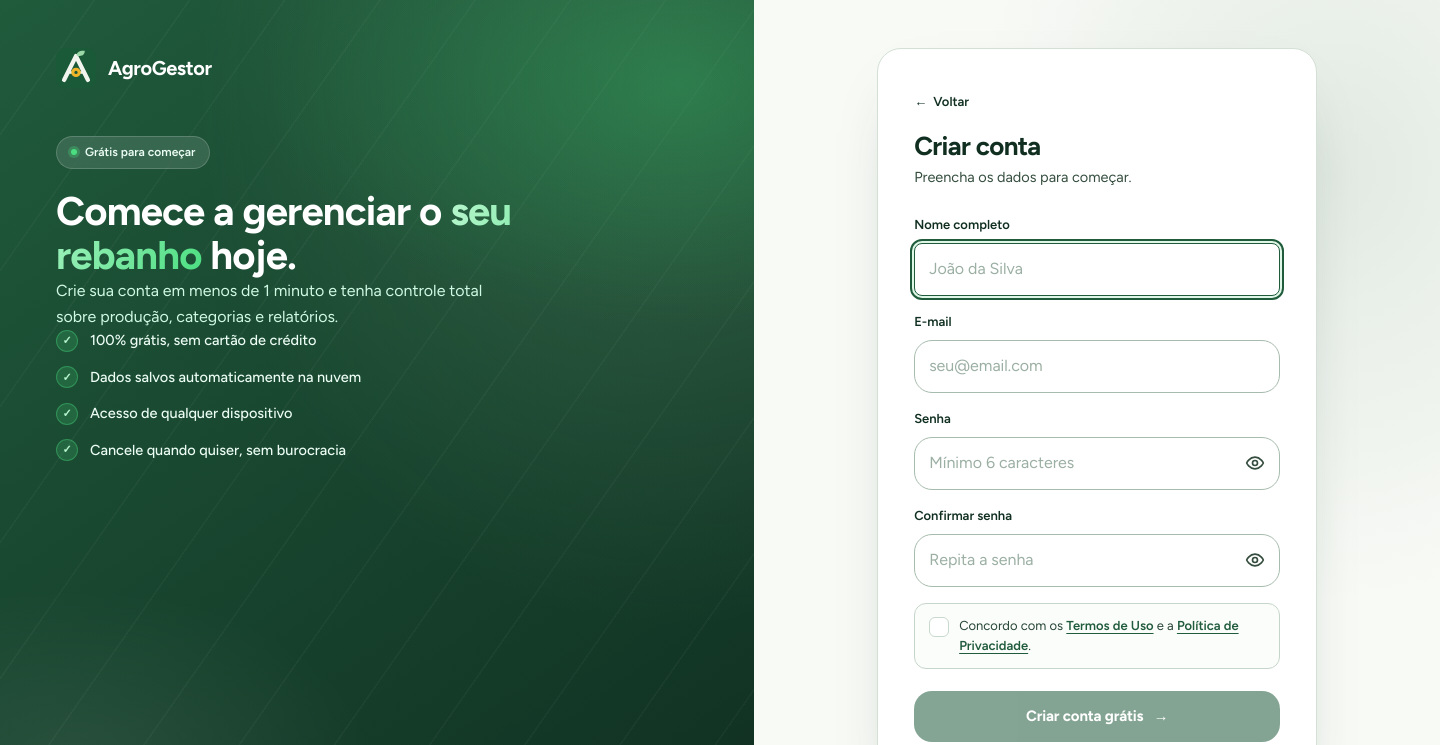
Test case: telas e interações › impede cadastro inválido e envia dados válidos
This screenshot has width=1440, height=745.
Expected: the button "Criar conta grátis →" is disabled, x1=914 y1=691 x2=1280 y2=742
Type "Ana Silva" into the field labelled "Nome completo".
click(1097, 269); type("Ana Silva")  # box x1=914 y1=243 x2=1280 y2=296
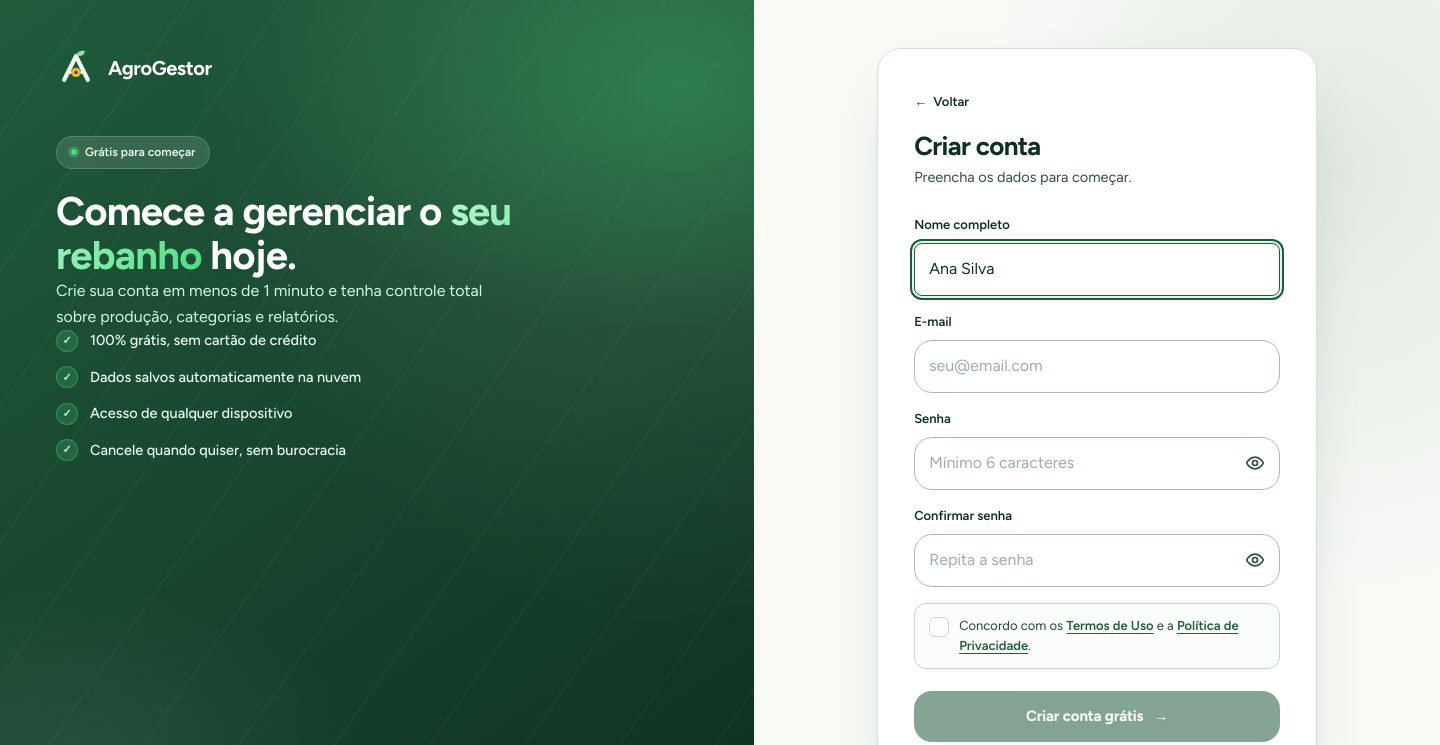
Type "ana@example.com" into the field labelled "E-mail".
click(1097, 366); type("ana@example.com")  # box x1=914 y1=340 x2=1280 y2=393
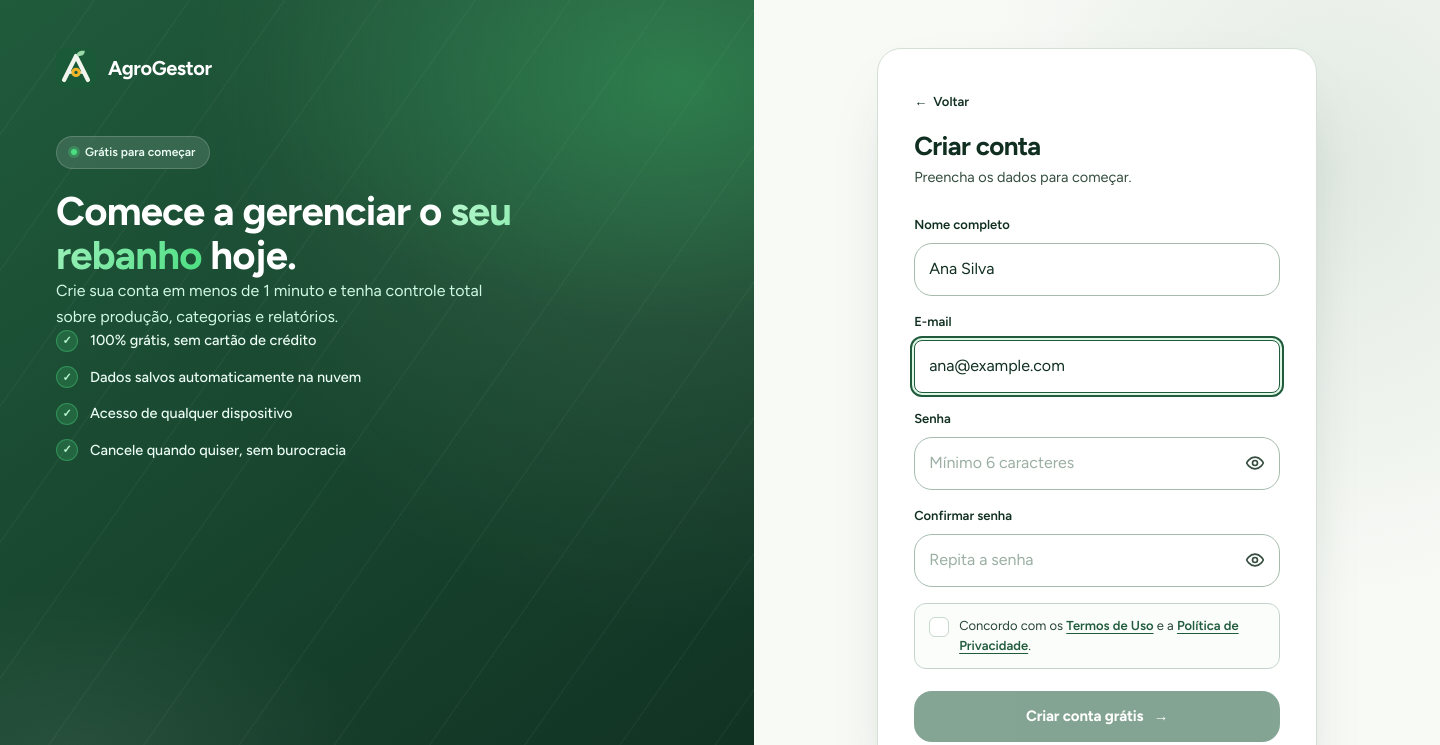
Type "senha123" into the password field labelled "Senha".
click(1097, 463); type("senha123")  # box x1=914 y1=437 x2=1280 y2=490
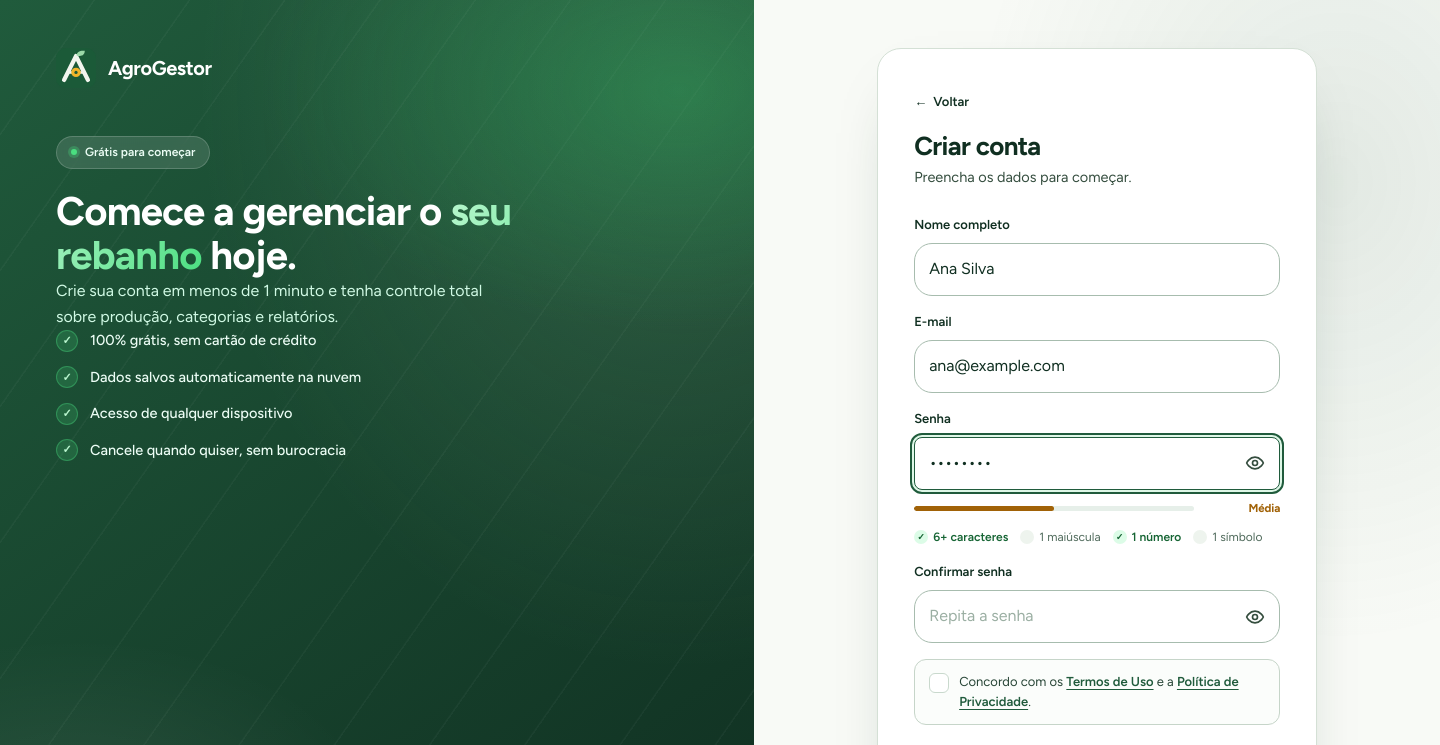
Type "senha123" into the password field labelled "Confirmar senha".
click(1097, 617); type("senha123")  # box x1=914 y1=590 x2=1280 y2=643
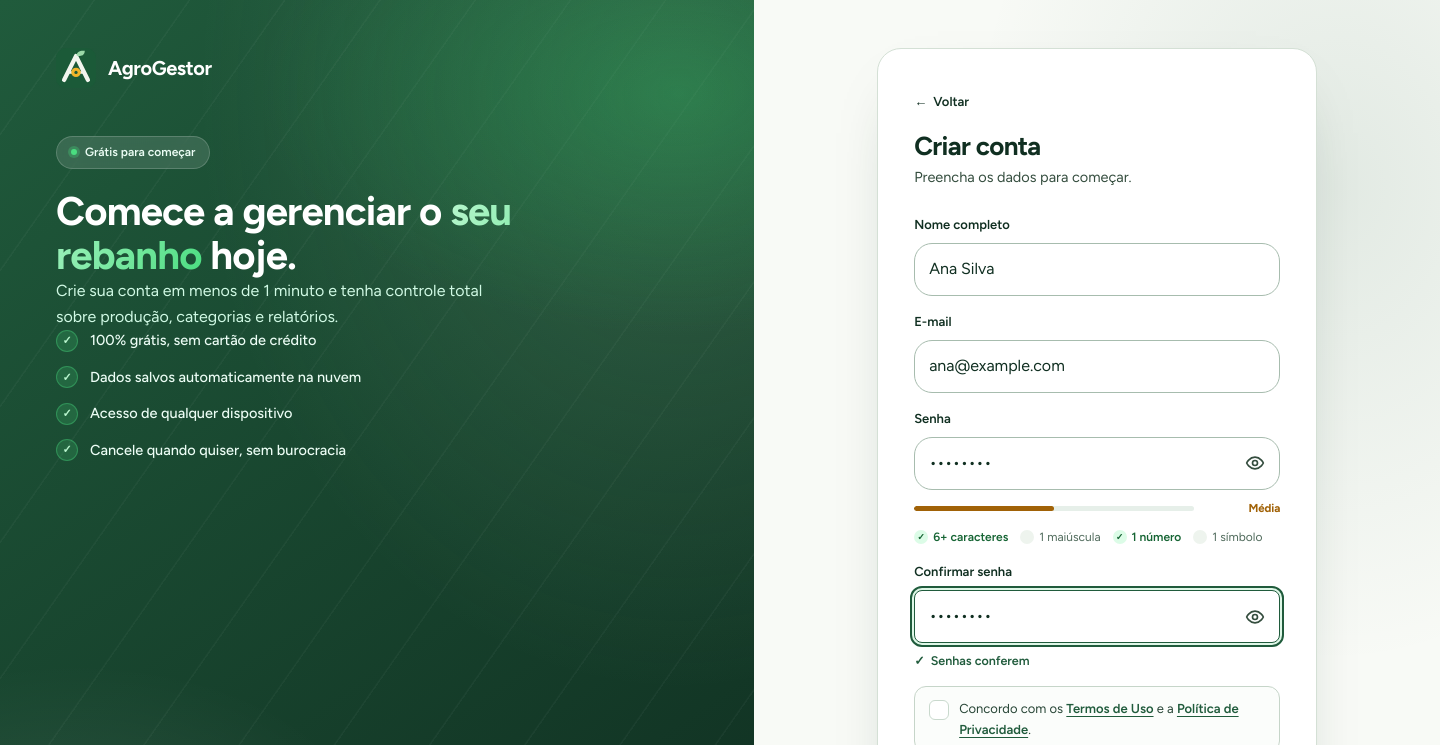
Click the text "Concordo com os Termos de Uso e a Política de Privacidade .".
click(1011, 709)  # box x1=959 y1=699 x2=1265 y2=740
(page scrolled)
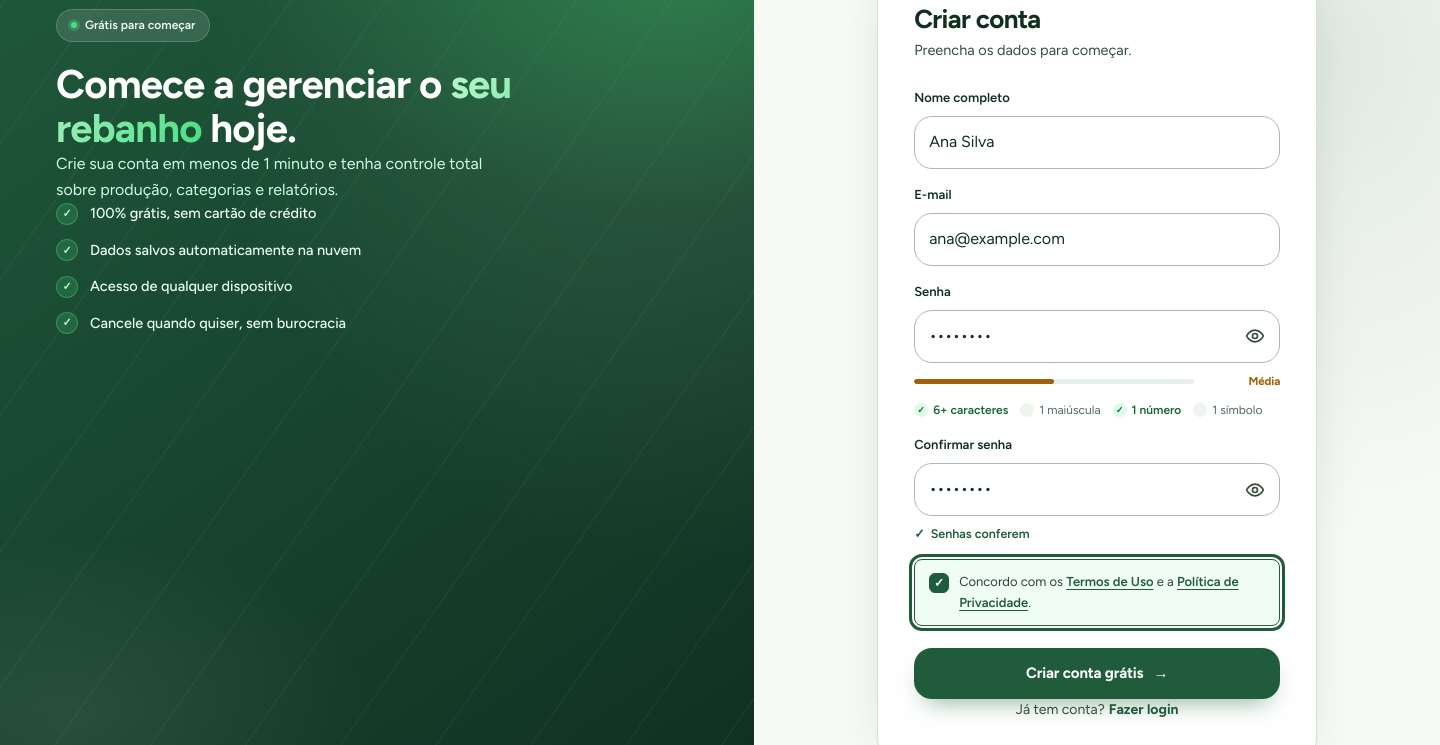
Click the button "Criar conta grátis →".
click(1097, 673)  # box x1=914 y1=648 x2=1280 y2=699
(page scrolled)
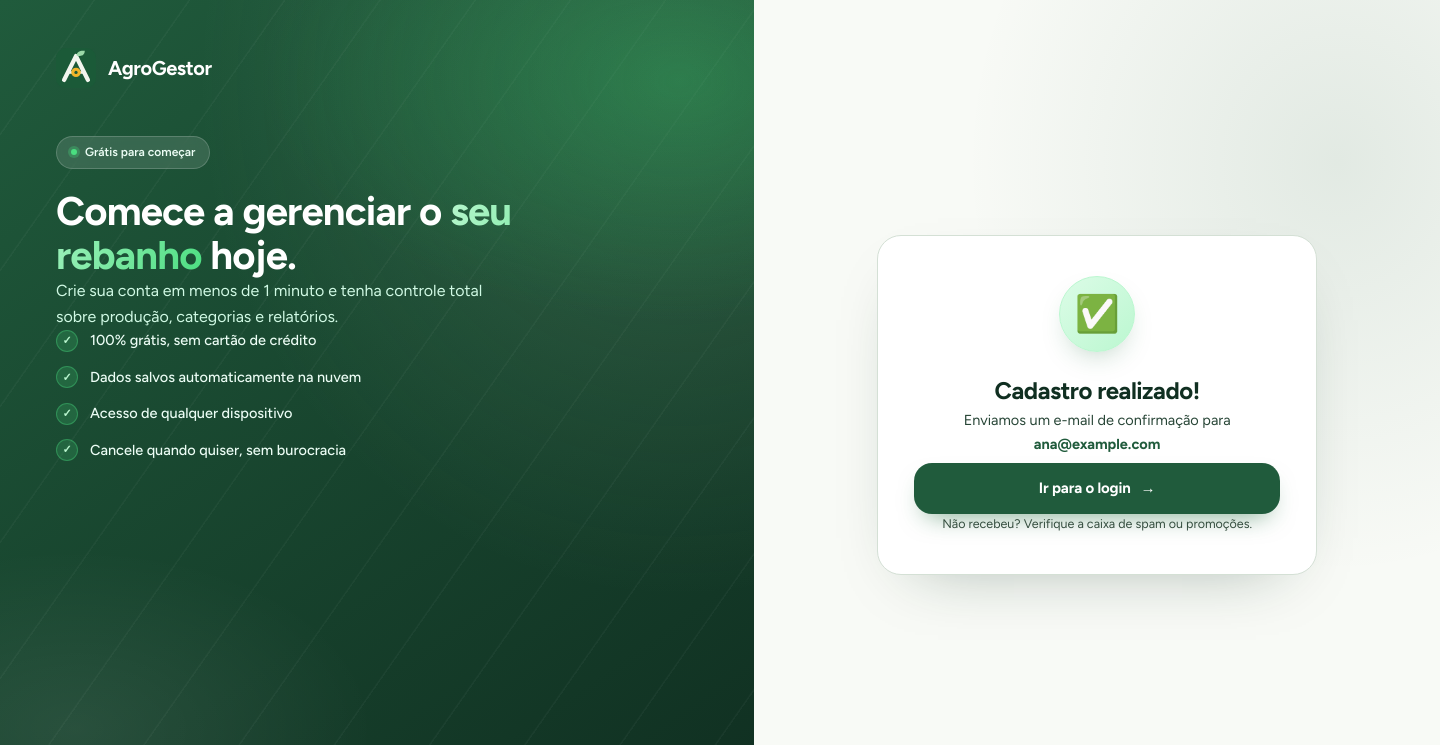
Expected: the heading "Cadastro realizado!" is shown, x1=995 y1=376 x2=1200 y2=405
